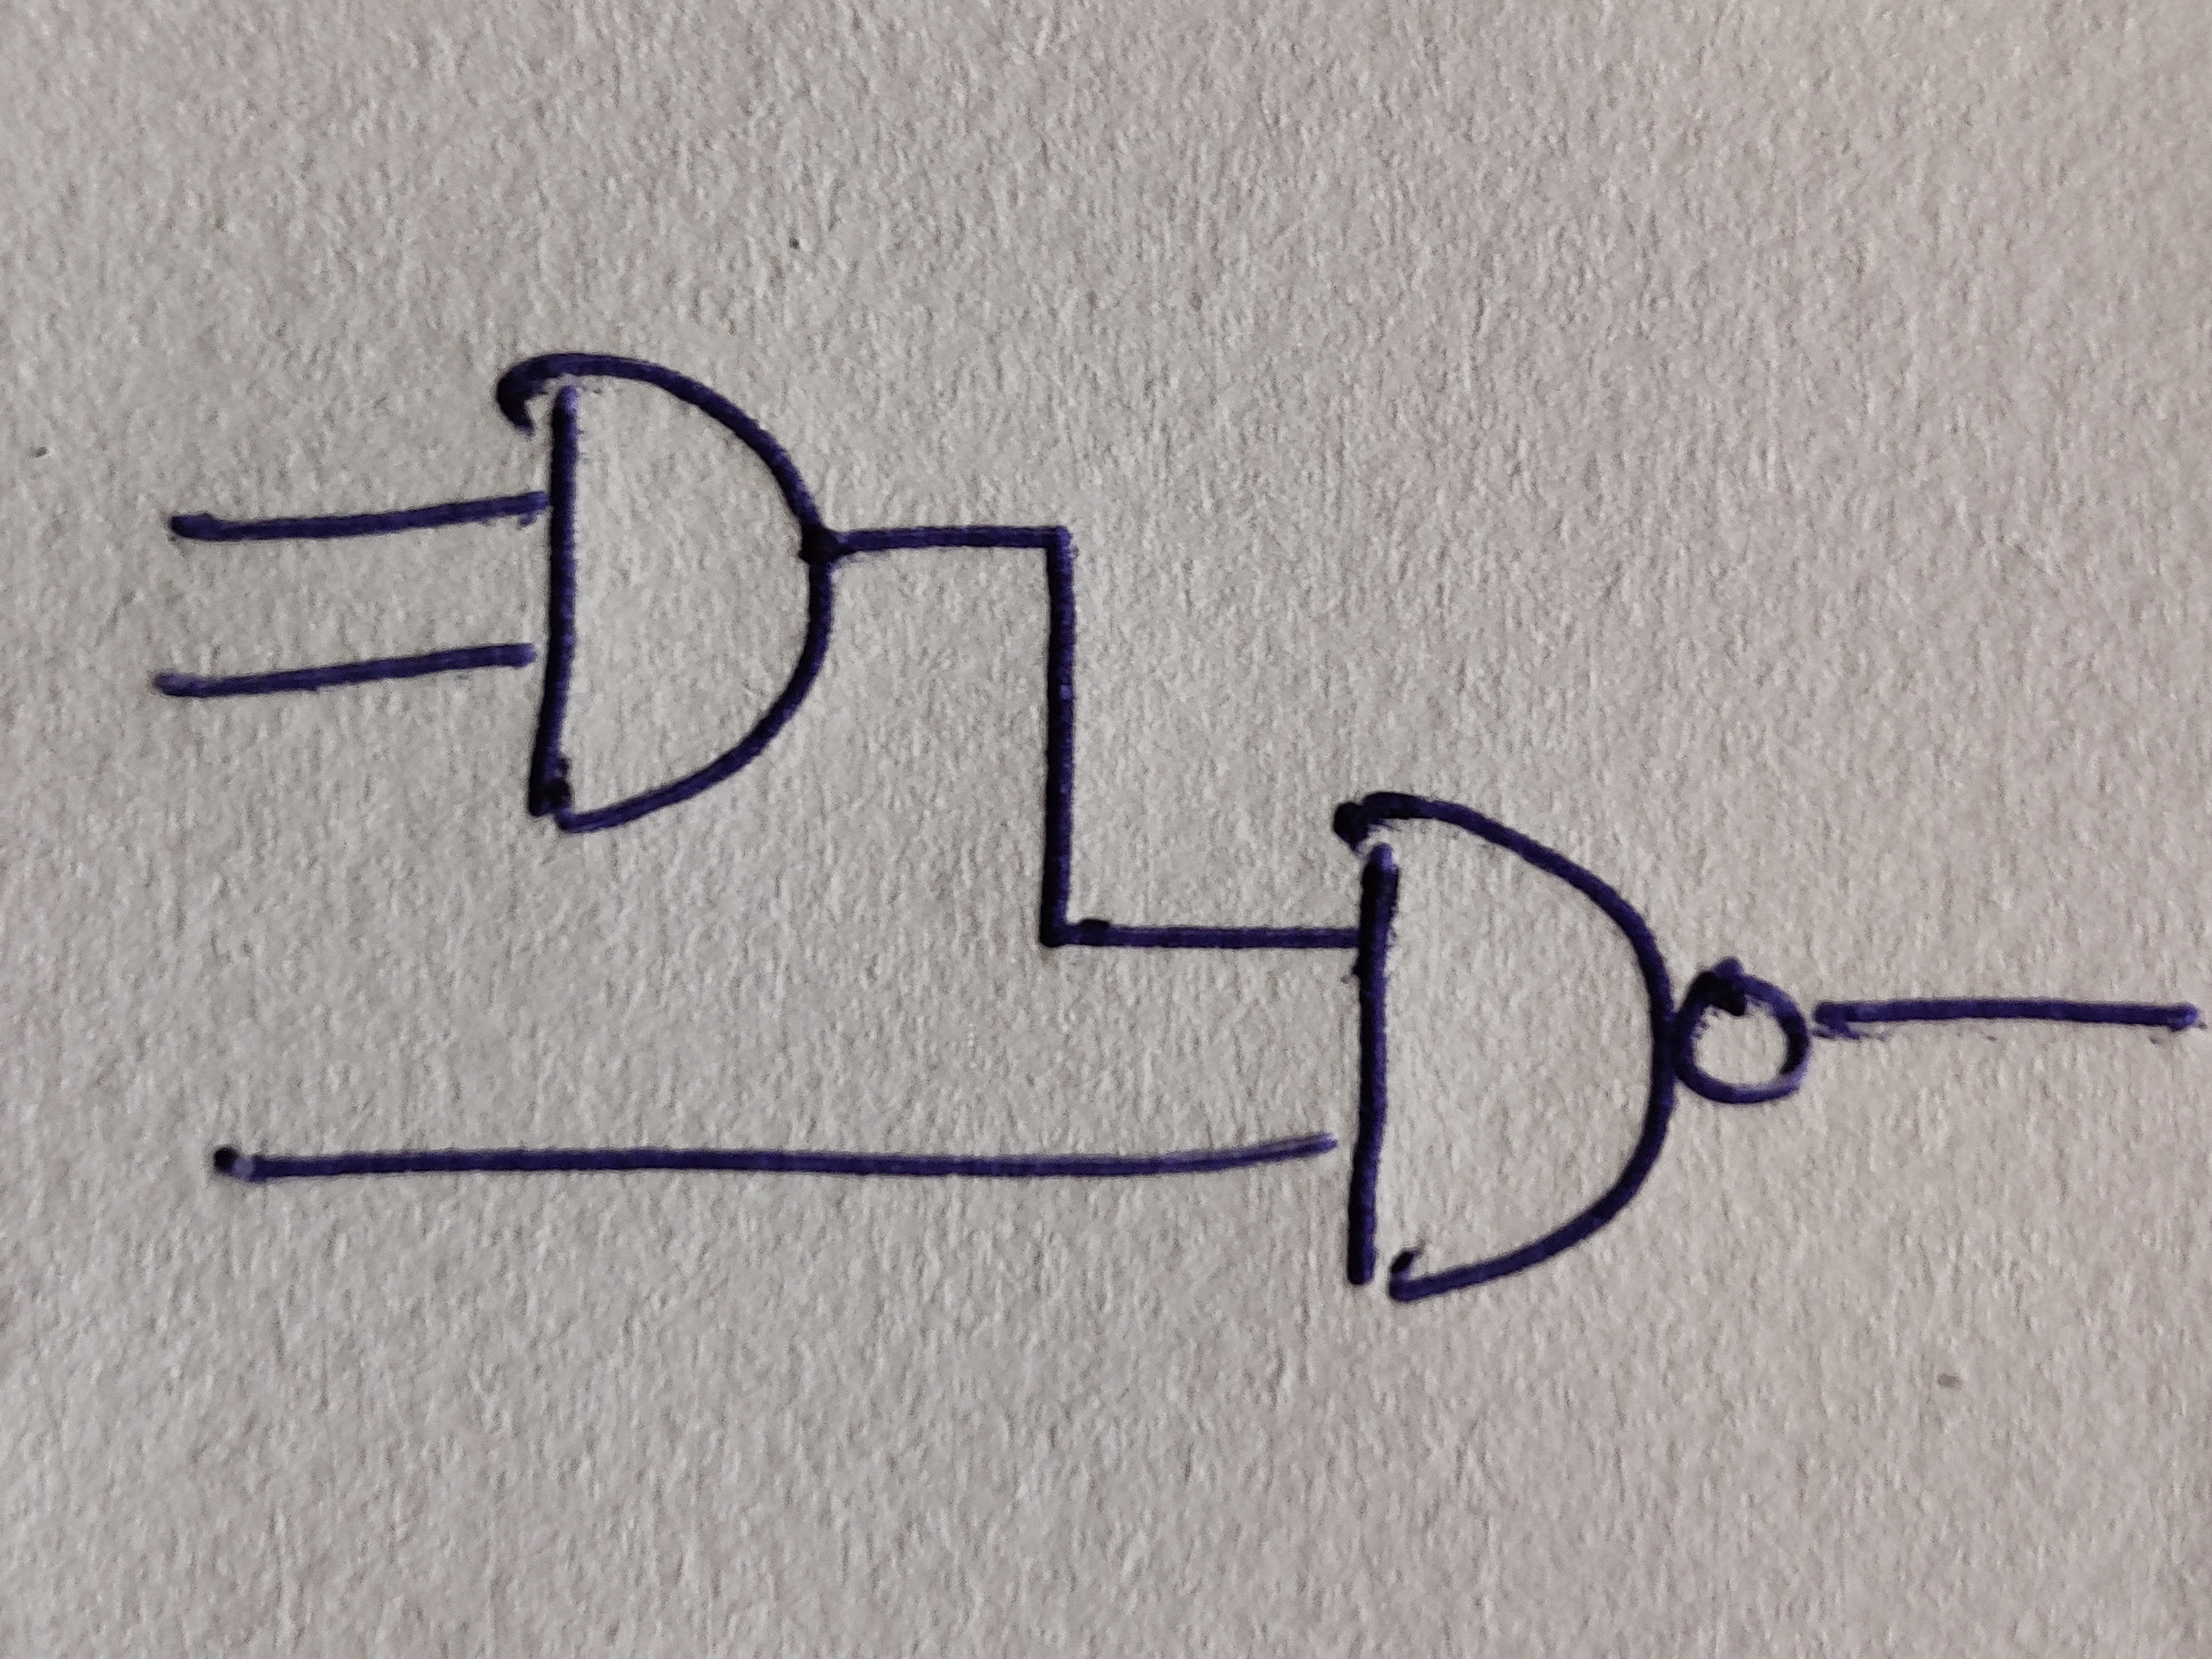and: (1331, 793, 1677, 1303), (493, 352, 833, 835)
not: (1670, 953, 1813, 1108)
